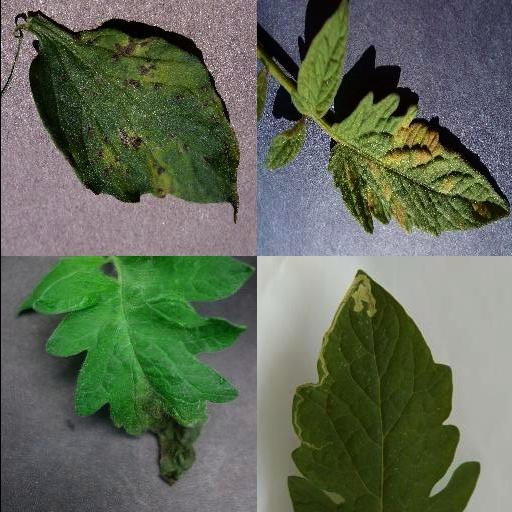Healthy: (294, 0, 350, 118)
Late Blight: (14, 256, 256, 486)
Leaf Miner: (286, 268, 480, 512)
Leaf Mold: (331, 92, 509, 236)
Septoria: (29, 25, 243, 223)
